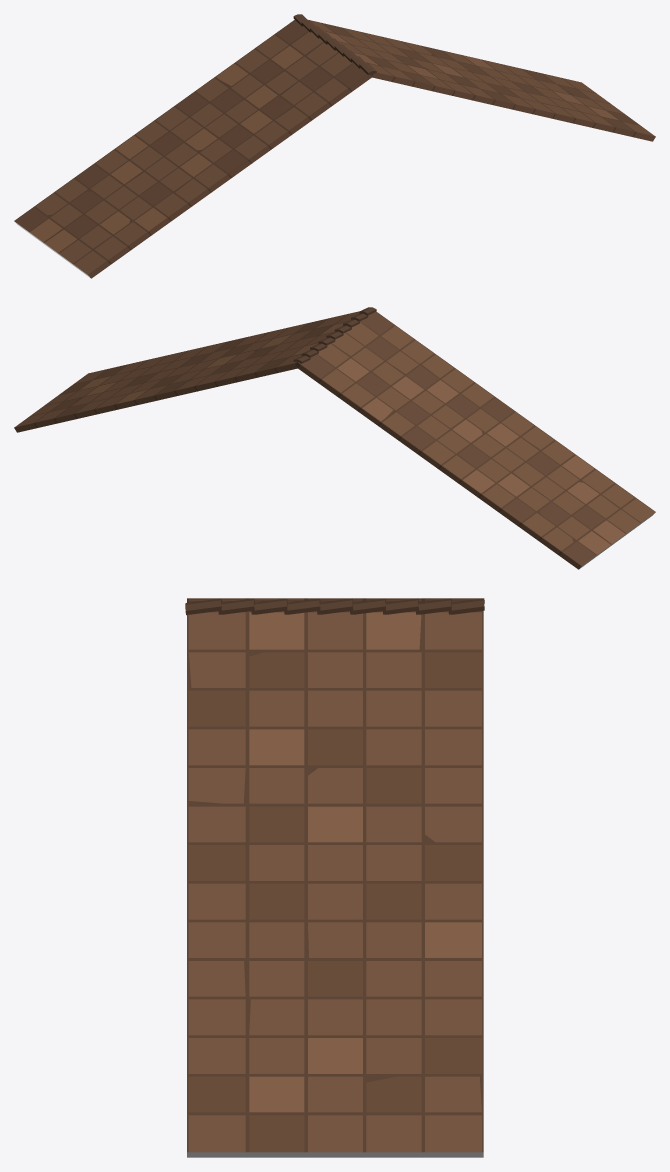
File: Roof5_C9_01.fbx
3 renders of one model, top to bottom at view 1: azimuth 30°, elevation 25°; view 2: azimuth 150°, elevation 25°; view 3: azimuth 270°, elevation 25°, orthographic. The views are drawn at different scales.
Parts seen in each view (by area): view 1: Roof5_C9_01; view 2: Roof5_C9_01; view 3: Roof5_C9_01.
Part boxes in pixels (x1=…): Roof5_C9_01: x1=14, y1=14, x2=655, y2=278; Roof5_C9_01: x1=14, y1=307, x2=655, y2=569; Roof5_C9_01: x1=185, y1=598, x2=484, y2=1157.
Bounding box in the file's own units: 1105 × 264 × 252.
